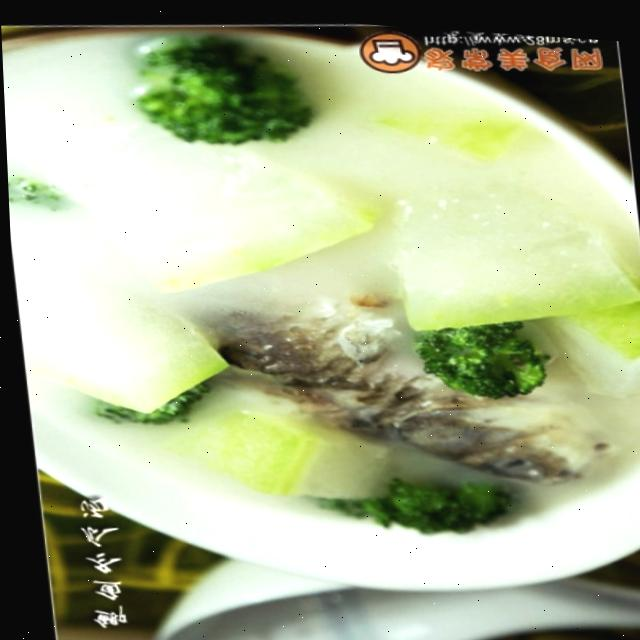汤锅炖物: (34, 19, 640, 630)
